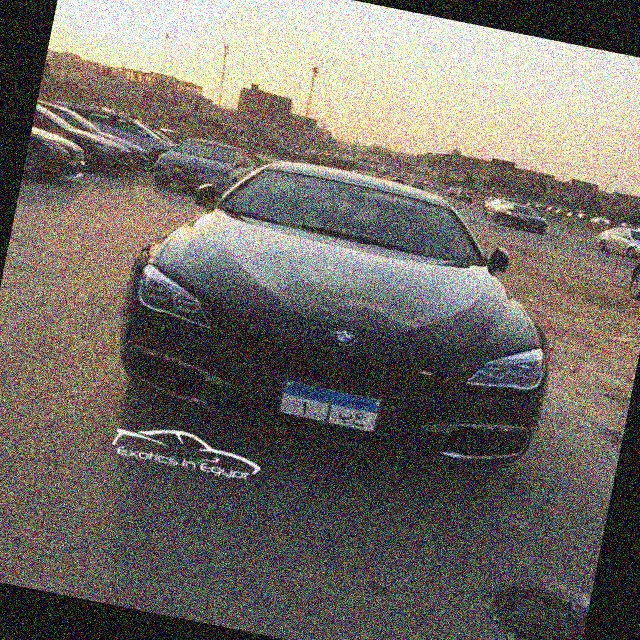License Plate: (275, 376, 386, 437)
